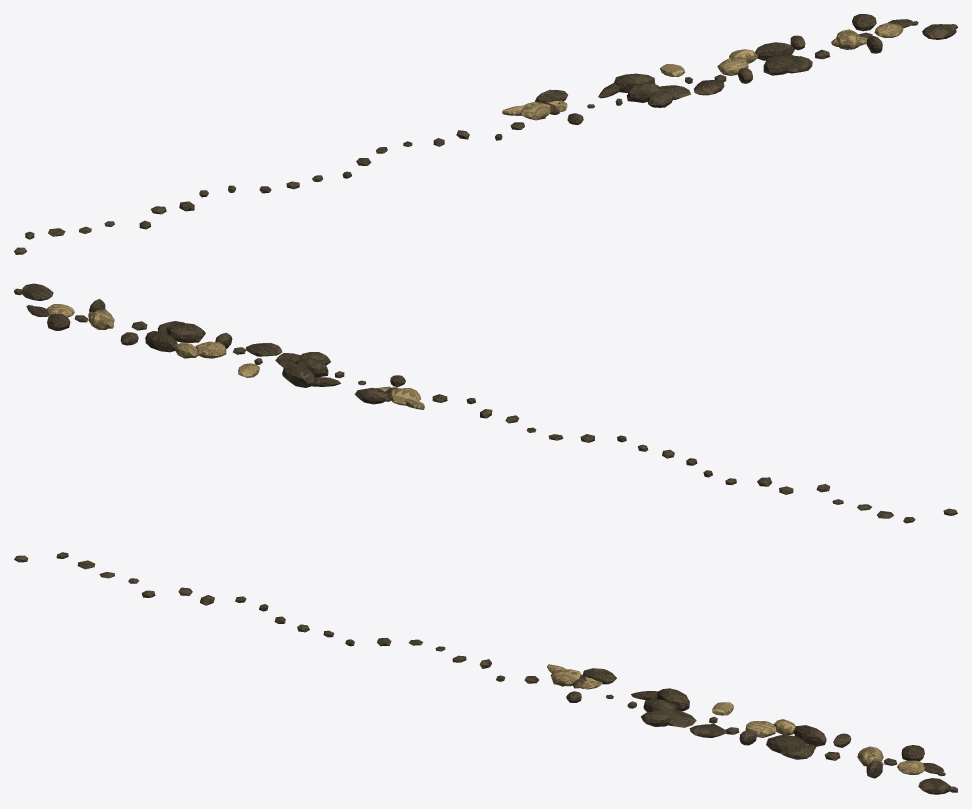
The model's file is north-west-shore.glb.
3 views of the same model, one above another, from view 1: azimuth 30°, elevation 25°; view 2: azimuth 150°, elevation 25°; view 3: azimuth 330°, elevation 25° (orthographic).
Visible parts, largest first — view 1: north-west-shore; view 2: north-west-shore; view 3: north-west-shore.
Boxes of the visible parts, left/top/right/bottom form: north-west-shore: left=14, top=14, right=957, bottom=254; north-west-shore: left=14, top=283, right=957, bottom=523; north-west-shore: left=14, top=552, right=957, bottom=794.
Size of the model in its own units: 57.82 by 1.07 by 4.41.
Materials: 1 (1 with a texture image).
